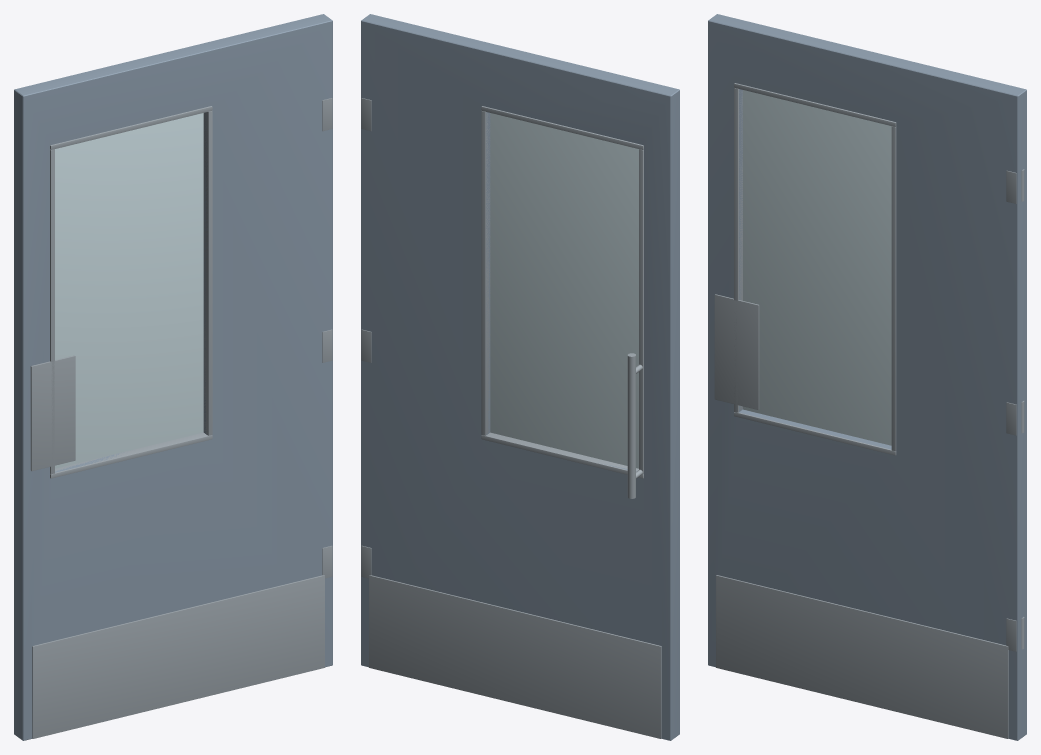
File: door_leaf_diag.fbx
The picture shows the model from 3 angles, left to right: view 1: azimuth 30°, elevation 25°; view 2: azimuth 150°, elevation 25°; view 3: azimuth 330°, elevation 25°; orthographic projection.
Parts seen in each view (by area): view 1: EQ_door_leaf_diag_M_DoorDiag, EQ_door_leaf_diag_M_DoorGlass, EQ_door_leaf_diag_M_SteelBrushed; view 2: EQ_door_leaf_diag_M_DoorDiag, EQ_door_leaf_diag_M_DoorGlass, EQ_door_leaf_diag_M_SteelBrushed; view 3: EQ_door_leaf_diag_M_DoorDiag, EQ_door_leaf_diag_M_DoorGlass, EQ_door_leaf_diag_M_SteelBrushed.
Boxes of the visible parts, x1,y1,x2,y2 form: EQ_door_leaf_diag_M_DoorDiag: (14, 14, 332, 740); EQ_door_leaf_diag_M_DoorGlass: (55, 113, 203, 468); EQ_door_leaf_diag_M_SteelBrushed: (30, 98, 332, 738); EQ_door_leaf_diag_M_DoorDiag: (361, 14, 679, 740); EQ_door_leaf_diag_M_DoorGlass: (490, 113, 638, 468); EQ_door_leaf_diag_M_SteelBrushed: (361, 98, 661, 738); EQ_door_leaf_diag_M_DoorDiag: (708, 14, 1026, 740); EQ_door_leaf_diag_M_DoorGlass: (743, 90, 891, 445); EQ_door_leaf_diag_M_SteelBrushed: (714, 83, 1024, 738).
Bounding box in the file's own units: 1.06 × 2.09 × 0.1275.
